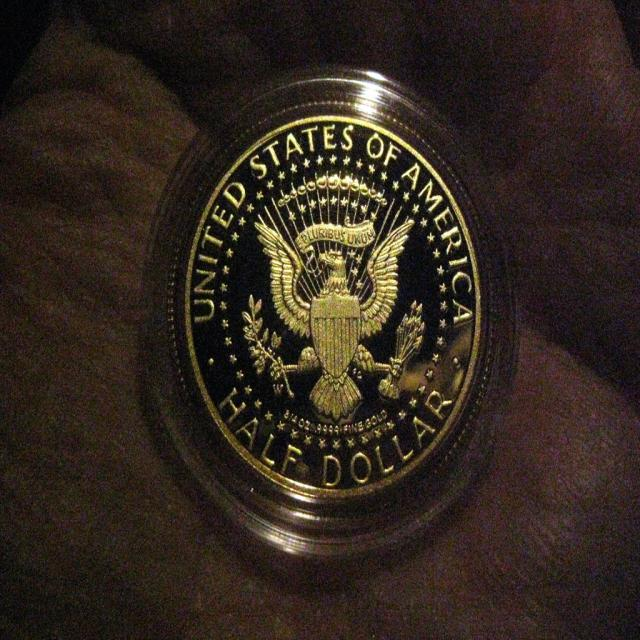Coin: (134, 64, 524, 561)
